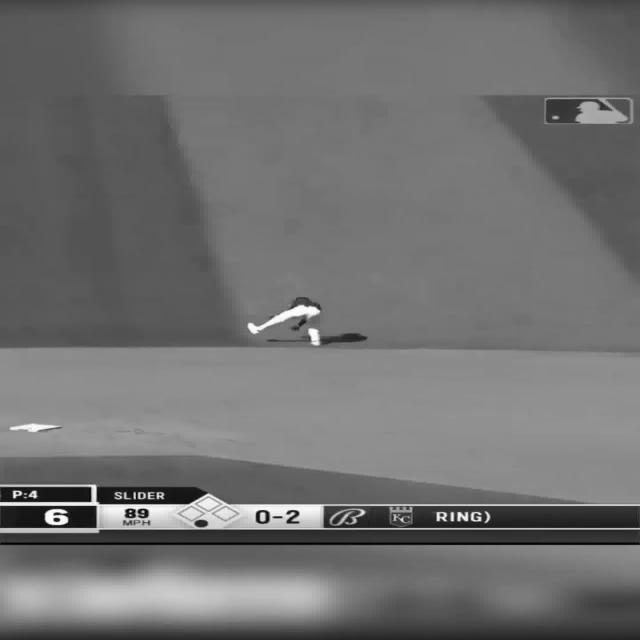base: (9, 424, 62, 432)
shoe: (247, 322, 260, 334)
